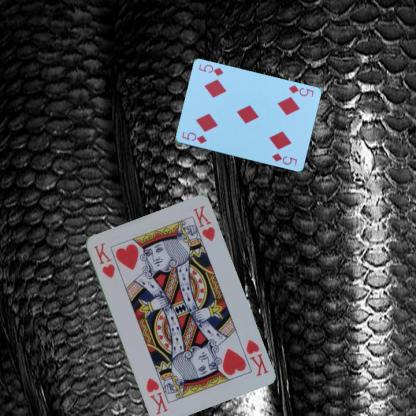5d: (179, 129, 208, 145), (286, 82, 315, 98)
Kh: (243, 336, 269, 378), (90, 239, 116, 280)
